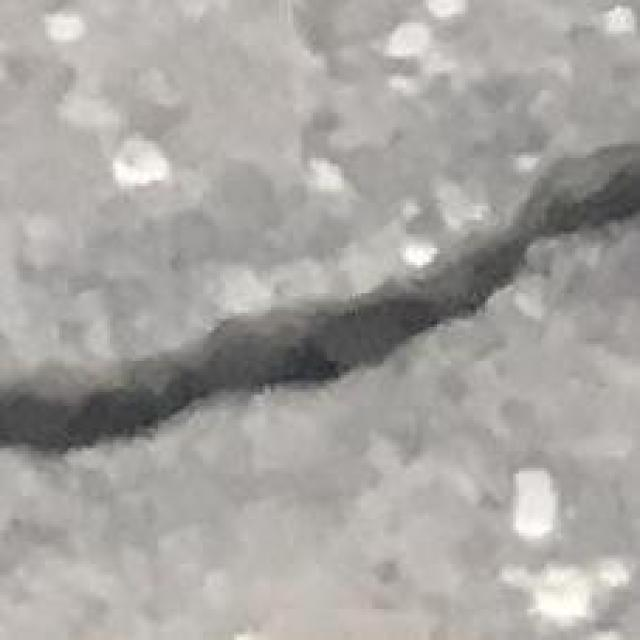Crack: (3, 130, 640, 479)
